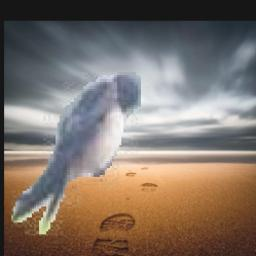Swallow: (11, 73, 141, 236)
